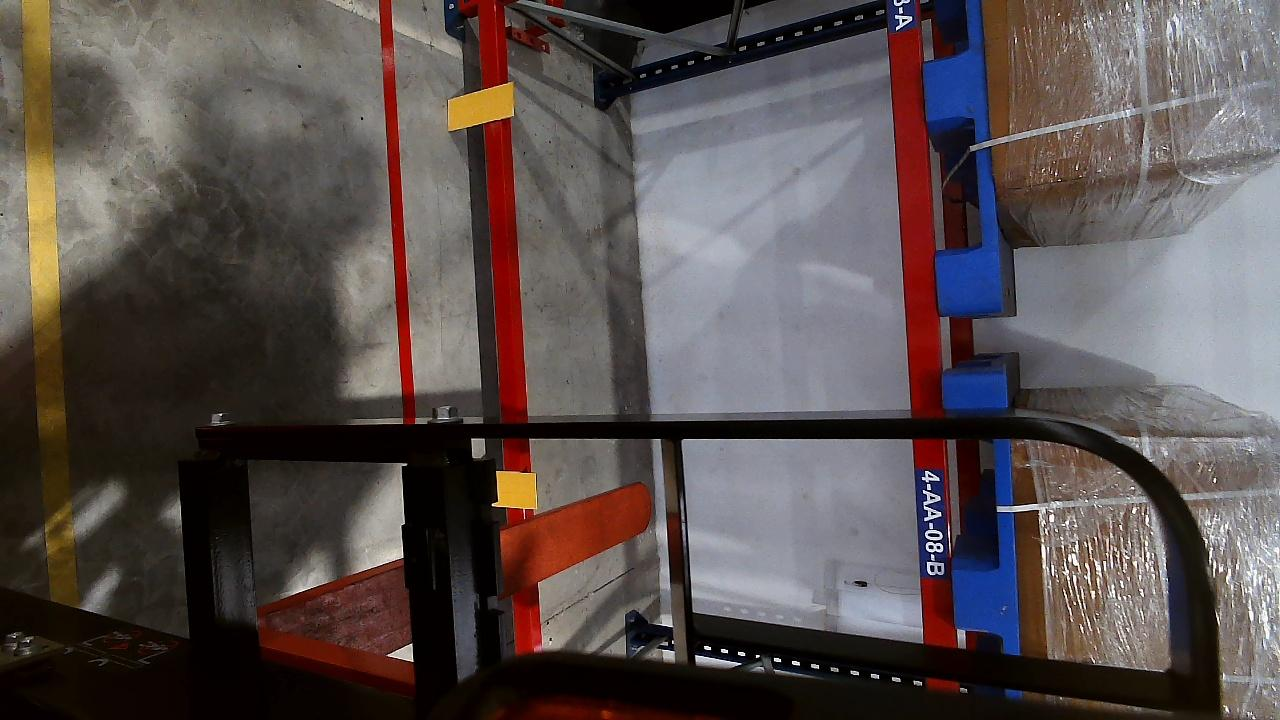h_rack: (881, 0, 949, 645), (471, 5, 526, 420)
orange_strip: (445, 83, 515, 130), (492, 471, 537, 509)
red_line: (378, 1, 417, 412)
small_pallet: (917, 0, 1007, 309)
yellow_line: (17, 0, 75, 607)
